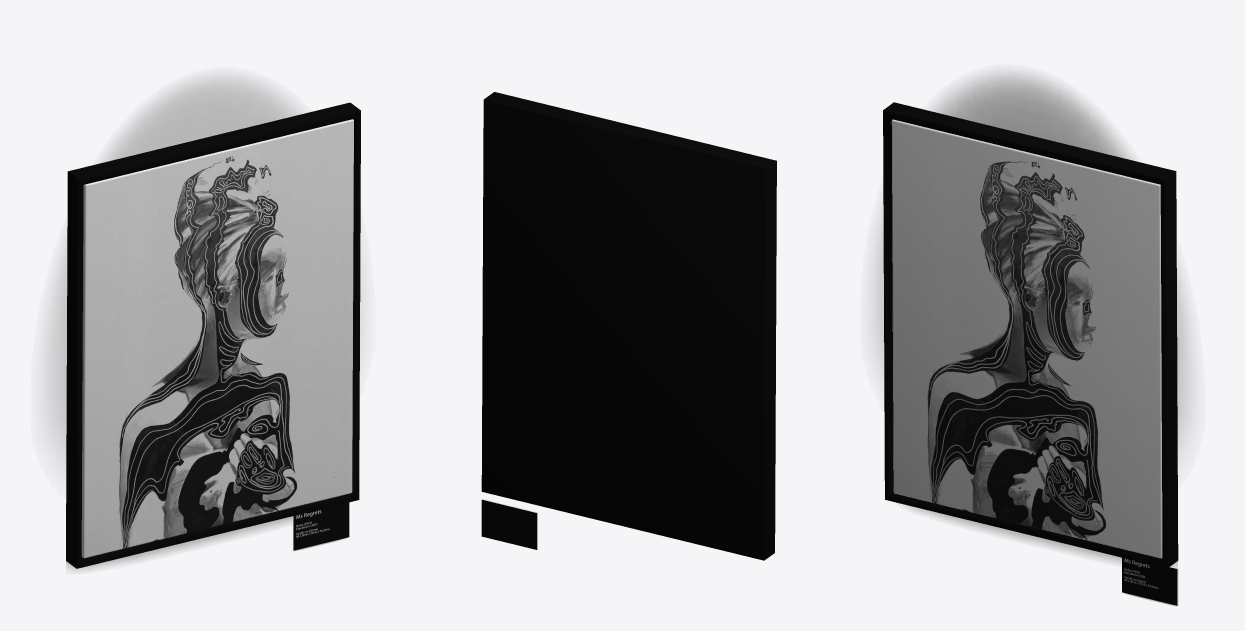
File: msregrets.glb
3 renders of one model, left to right at view 1: azimuth 30°, elevation 25°; view 2: azimuth 150°, elevation 25°; view 3: azimuth 330°, elevation 25°, orthographic.
Parts seen in each view (by area): view 1: Canvas, frame, ligth_, Box001, Plane001; view 2: frame, Box001; view 3: Canvas, frame, ligth_, Box001, Plane001.
Part boxes in pixels (x1,y1,x2,y2): Canvas: [81, 119, 353, 558]; frame: [66, 102, 360, 568]; ligth_: [46, 76, 300, 461]; Box001: [293, 502, 349, 550]; Plane001: [66, 516, 292, 568]; frame: [481, 92, 776, 560]; Box001: [481, 499, 537, 549]; Canvas: [891, 119, 1162, 558]; frame: [883, 102, 1178, 568]; ligth_: [876, 73, 1189, 442]; Box001: [1122, 557, 1178, 605]; Plane001: [910, 506, 1177, 566].
Size of the model in its own units: 10.94 by 13.89 by 0.6293.
2 materials, 1 textured.
